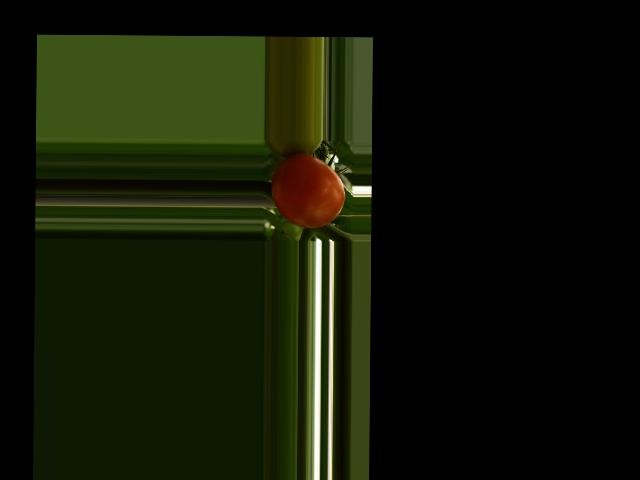tomato: (270, 153, 345, 228)
